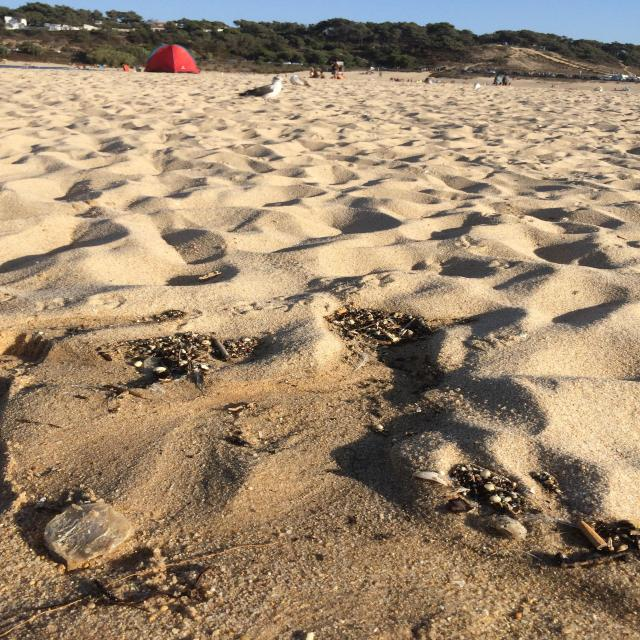litter: (41, 500, 125, 565), (577, 521, 607, 550)
